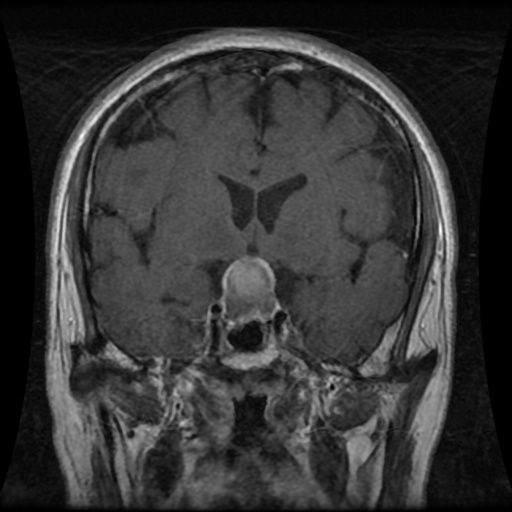pituitary: (226, 259, 274, 310)
